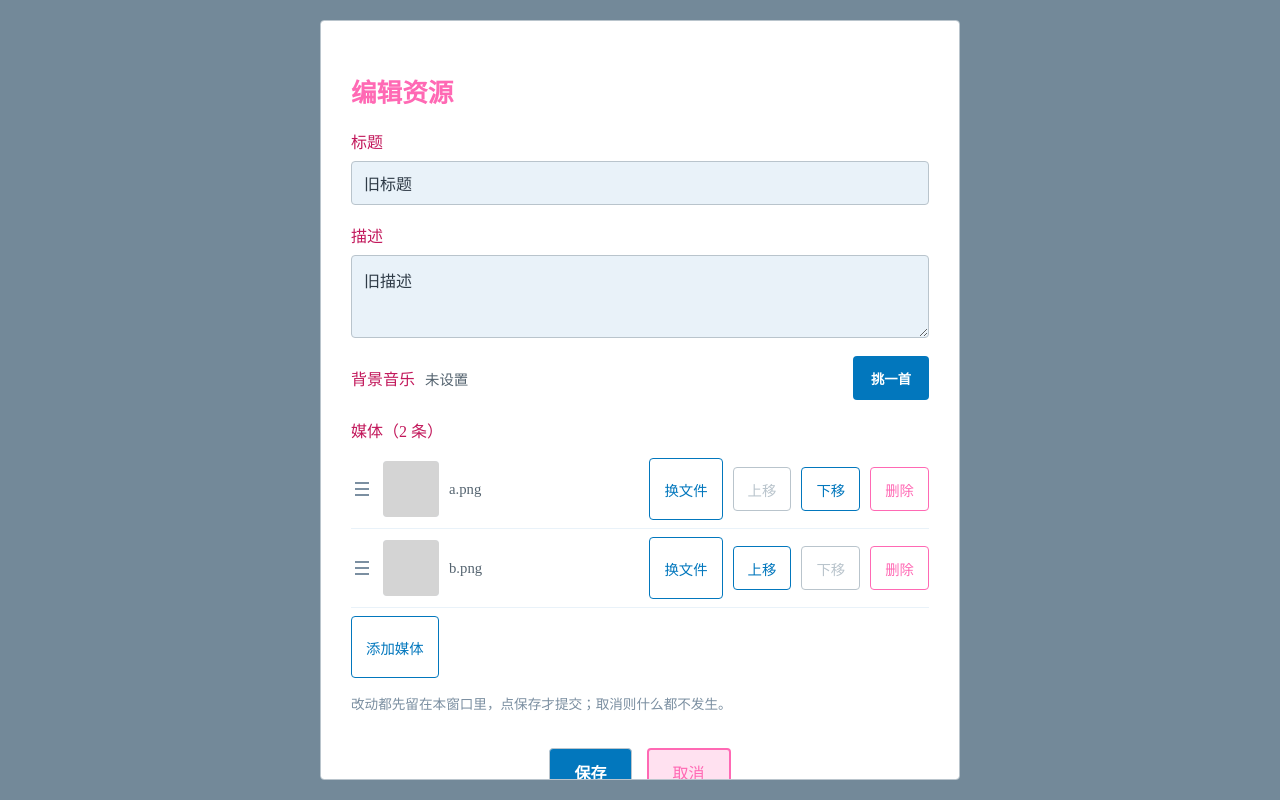
Test case: GalleryEditDialog 的草稿 › 点了删除但没保存：条目只从草稿里消失，什么都没发出去
Click the button with class "media-remove" in the row of "b.png" at (900, 568), box [870,546,929,590]
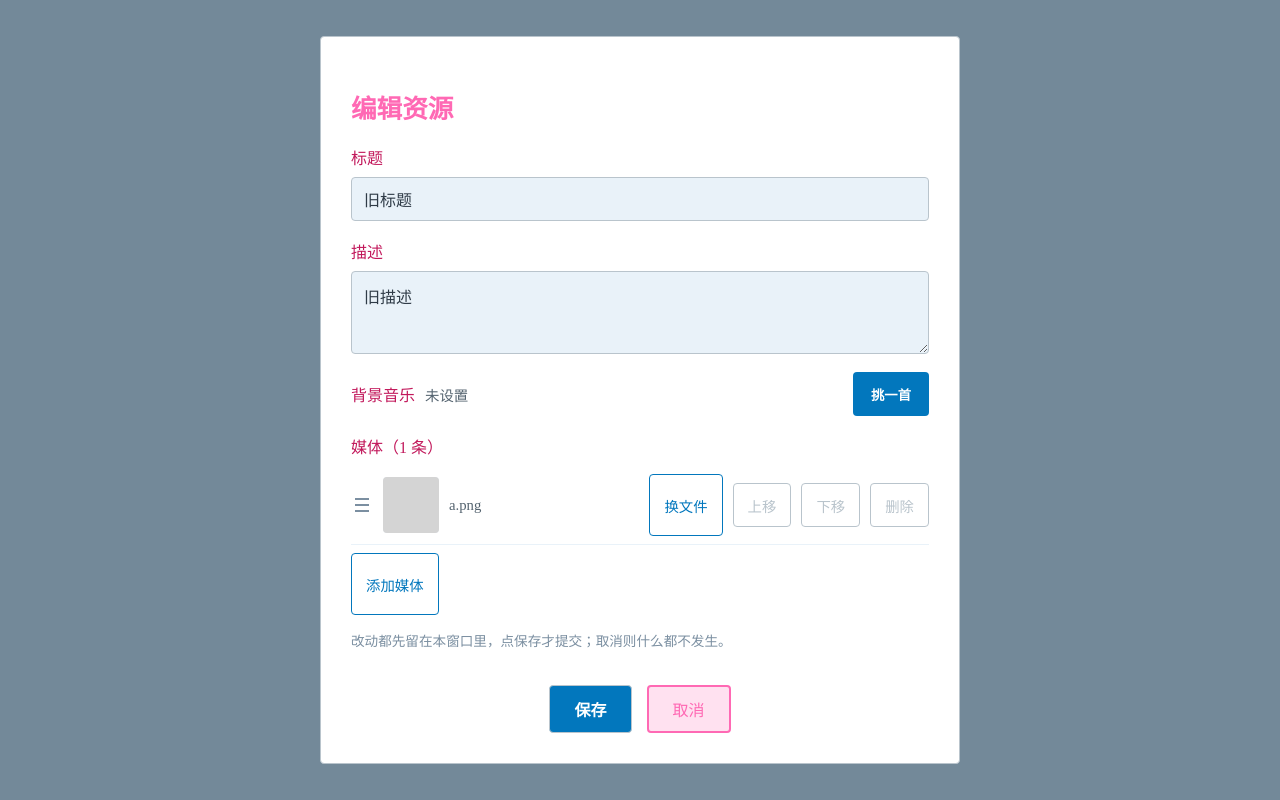
Result: the number of list items with class "media-row" is 1 at [351,466,929,545]
